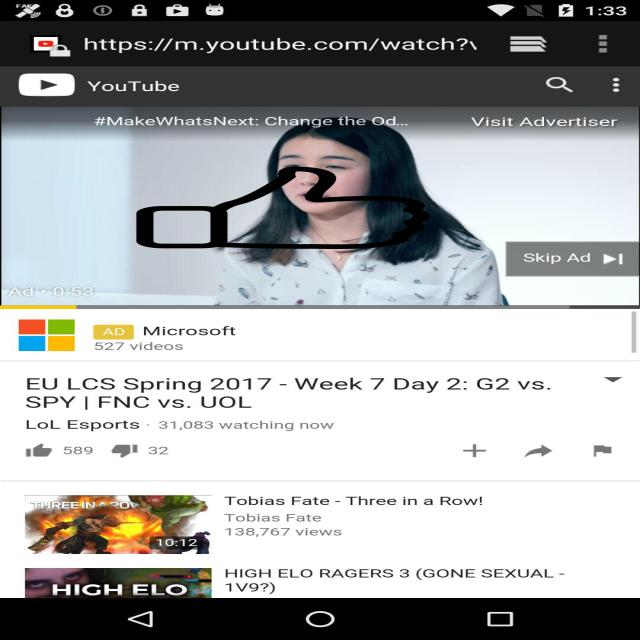privacy zuckering: (133, 167, 434, 249)
